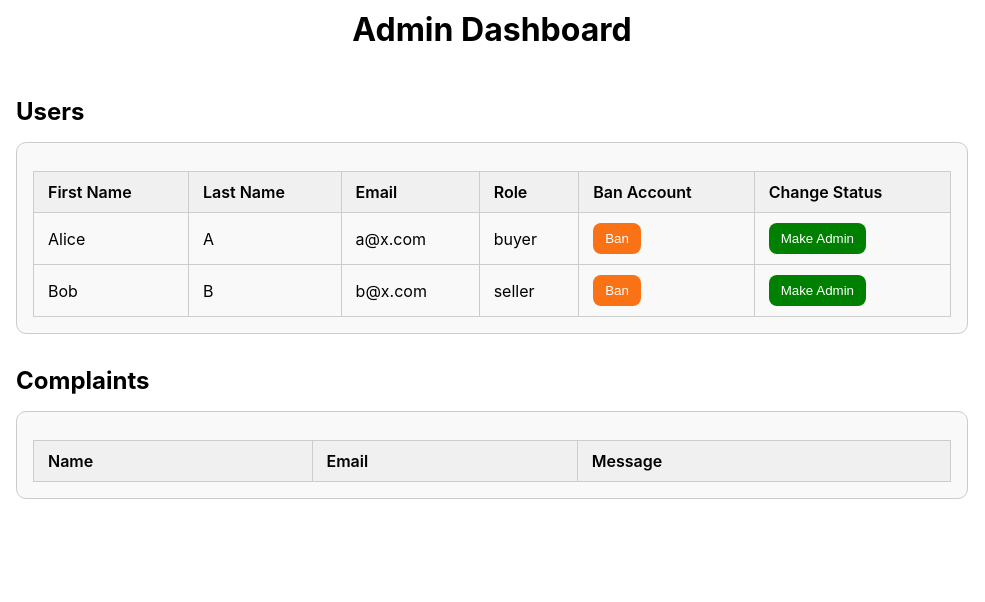
Admin Component › Given Ban clicked but fails, then error card shows
Expected: the text "Alice" is shown, [34,212,188,264]
Click the button "Ban" in the row of "Alice". click: point(617, 238)
box: [593,223,641,254]
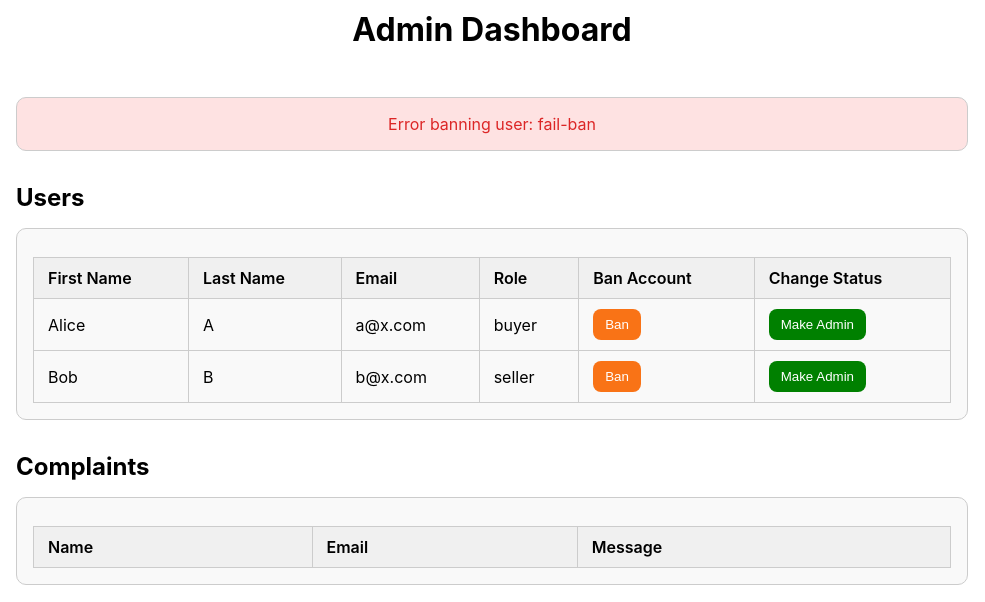
Expected: the text "Error banning user: fail-ban" is shown, [16,97,968,151]
